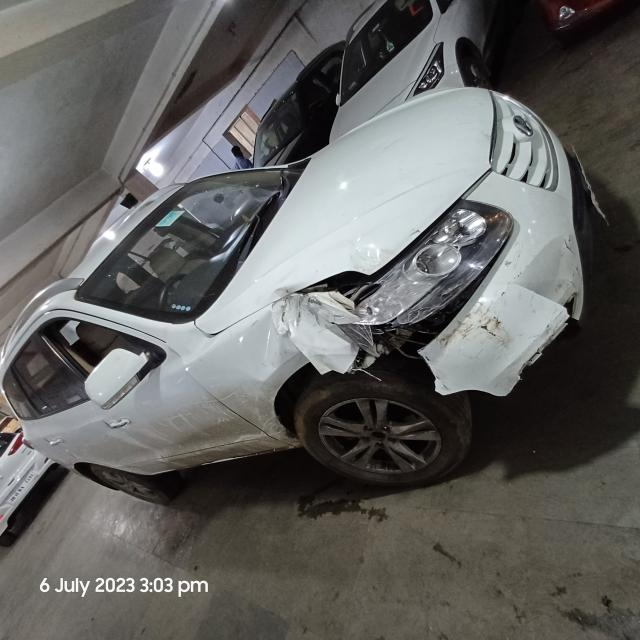damage: (423, 302, 518, 394), (275, 293, 373, 378), (506, 291, 571, 395), (504, 249, 579, 322), (349, 243, 389, 276), (270, 287, 302, 303)
